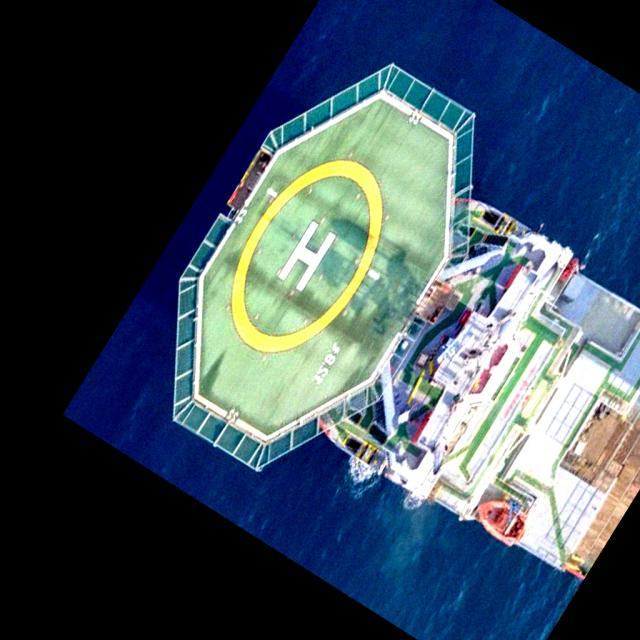helipad: (223, 154, 388, 357)
